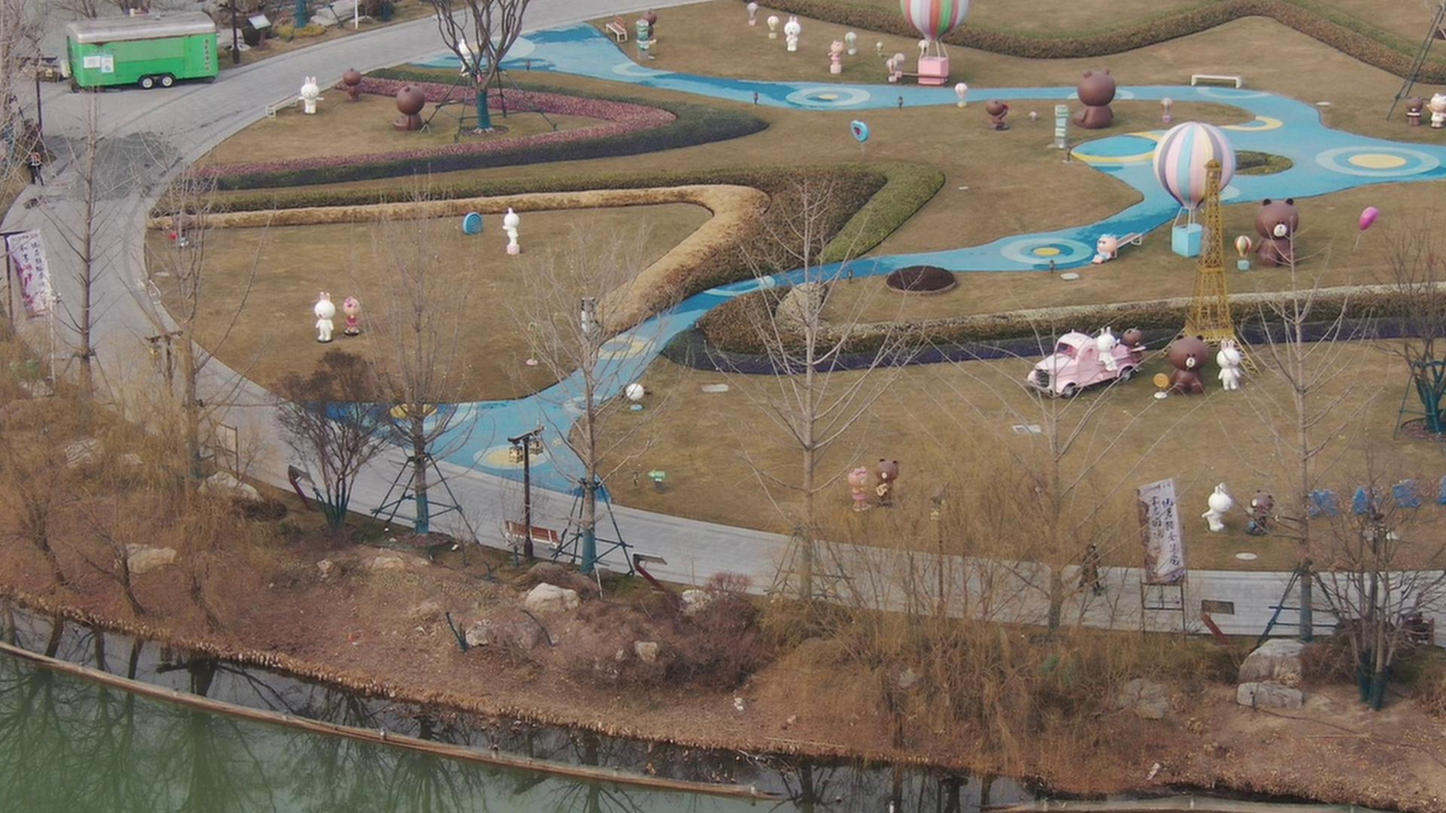class_2: (1070, 531, 1104, 600)
human: (26, 148, 51, 196)
